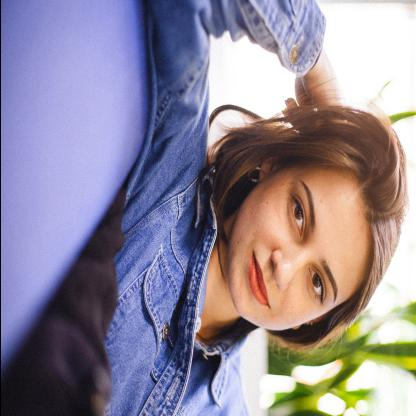Eye: (286, 190, 306, 241), (306, 266, 325, 306)
Mouth: (247, 249, 272, 310)
Nose: (270, 249, 304, 293)
